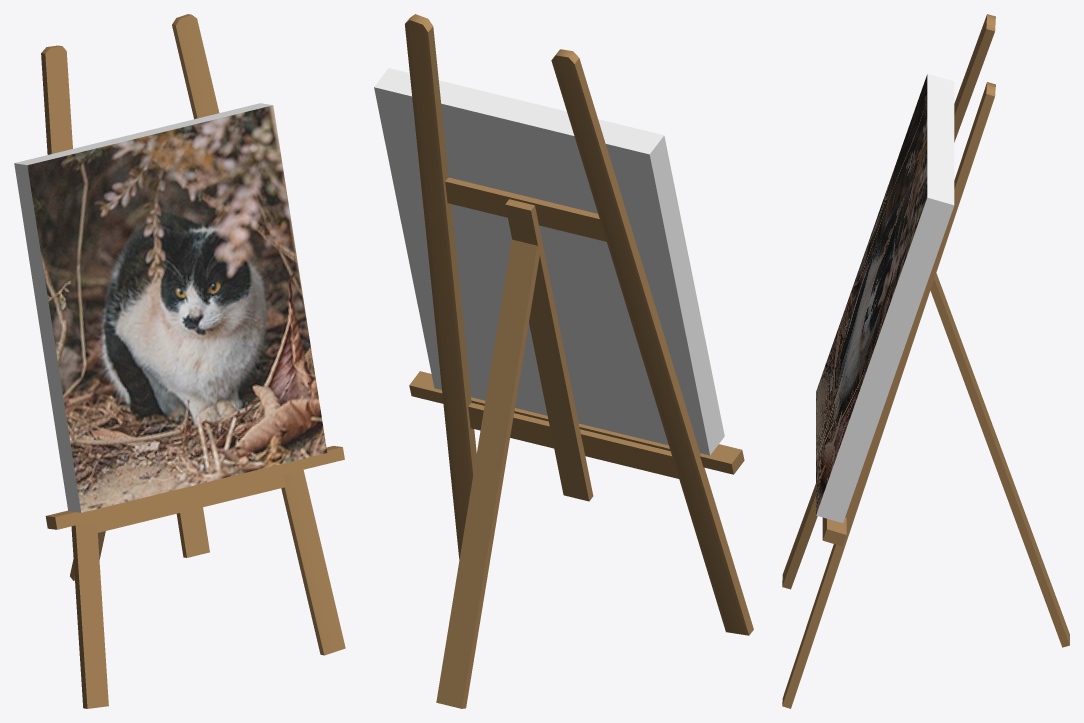
File: ajoumeo_6.fbx
3 renders of one model, left to right at view 1: azimuth 30°, elevation 25°; view 2: azimuth 150°, elevation 25°; view 3: azimuth 270°, elevation 25°, orthographic. The views are drawn at different scales.
Parts seen in each view (by area): view 1: ajoumeo_06; view 2: ajoumeo_06; view 3: ajoumeo_06.
Boxes of the visible parts, left/top/right/bottom form: ajoumeo_06: left=14, top=14, right=345, bottom=708; ajoumeo_06: left=374, top=14, right=753, bottom=708; ajoumeo_06: left=782, top=14, right=1069, bottom=708.
Size of the model in its own units: 0.6744 by 1.3 by 0.5661.
Materials: 1 (1 with a texture image).
